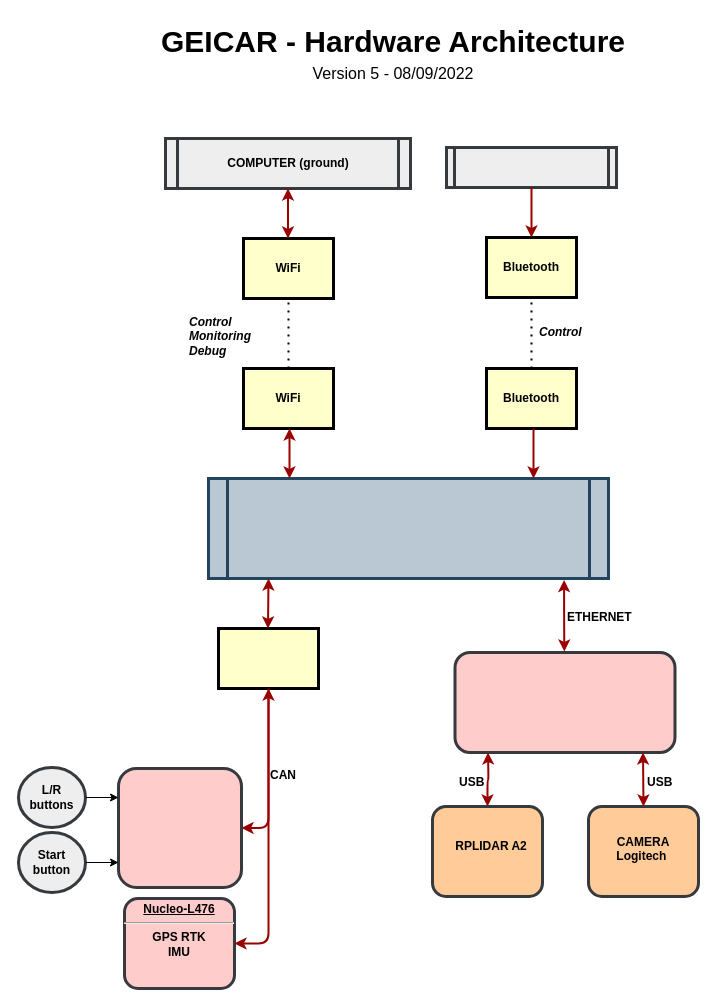
The diagram is 717 pixels wide and 1007 high, and some of its shapes have lost their labels. Here are the shapes that lost their labels. From the top down, the box of each, then its label:
(444, 146, 618, 188): Joystick XBOX360 (ground)
(206, 476, 610, 580): Raspberry PI 3 [ Ubuntu Server 22.04 ] [ ROS2 Humble ] [ Pican 2 ]
(216, 626, 320, 690): CAN adapter (Hat)
(453, 650, 676, 754): JETSON Nano [ Ubuntu 18.04] [ ROS2 Humble (docker) ] [ SDK RPLidar ]
(116, 766, 242, 888): Nucleo-F103 Power Propulsion Steering Ultrasonic sensors Odometry Battery
